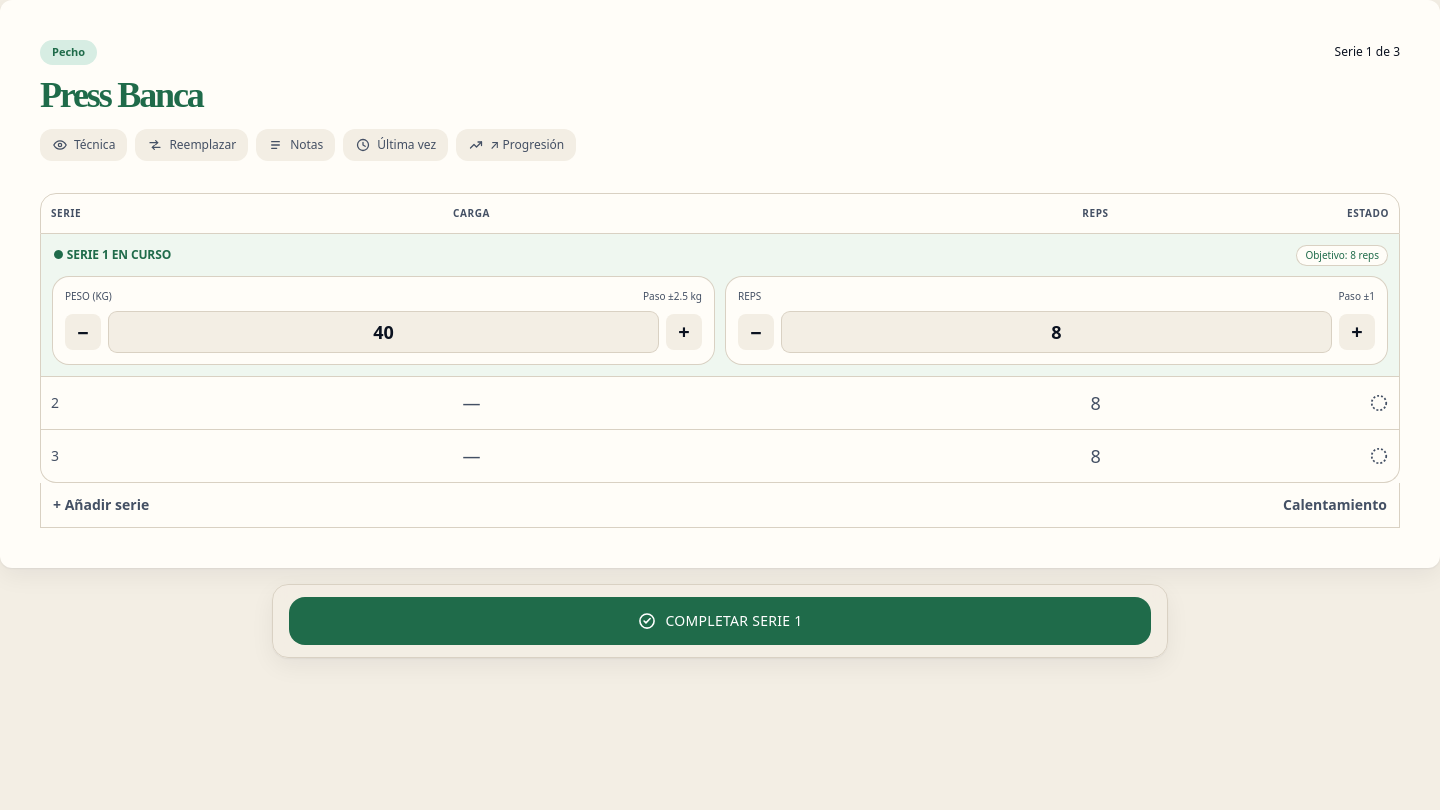
Test: GuidedExerciseCard › keeps set logging usable when the context request fails
The width and height of the screenshot is (1440, 810).
Click the button with aria-label "Mostrar notas": [296, 144] box [256,128,335,160]
(page scrolled)
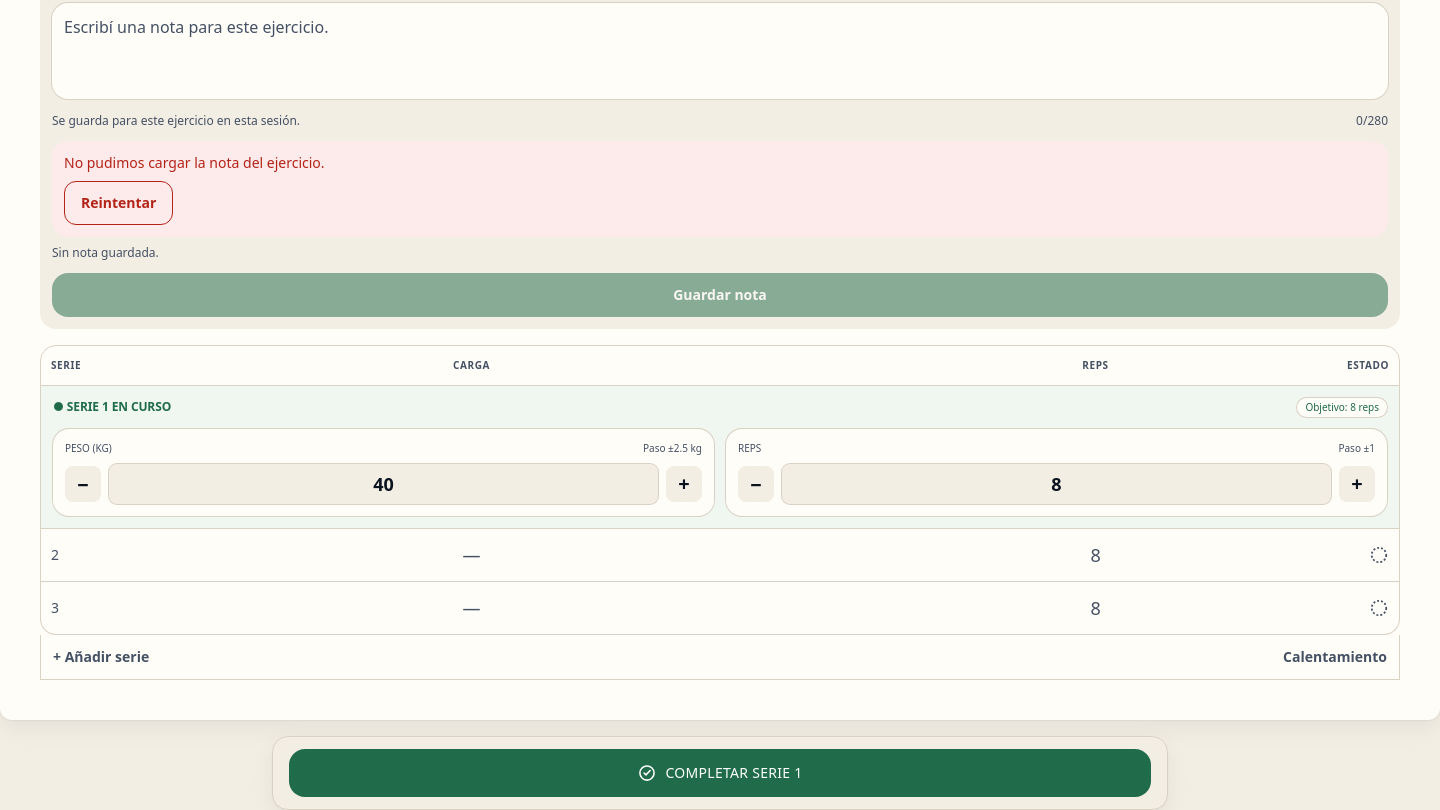
Expected: the element with test id "set-checklist" is shown, [40,344,1400,680]
Expected: the text "No pudimos cargar la nota del ejercicio." is shown, [64,152,325,172]
